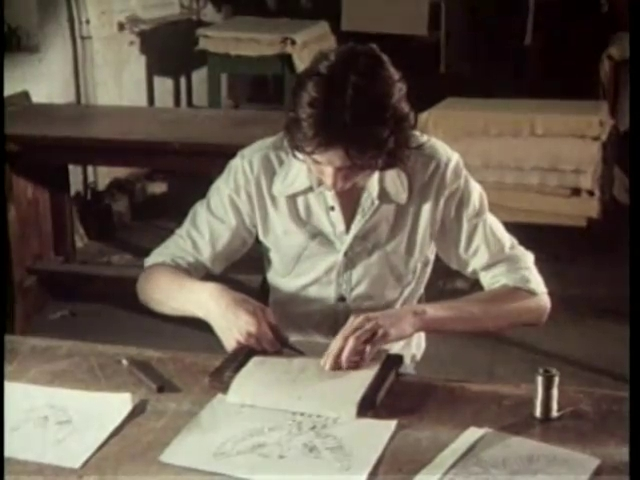person: (136, 43, 551, 371)
